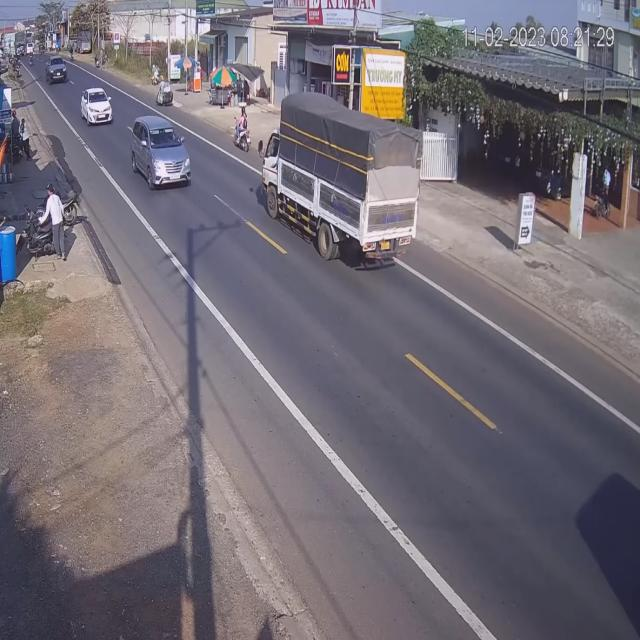car: (131, 118, 192, 194), (82, 86, 115, 127), (46, 55, 67, 85)
motorbike: (232, 111, 248, 152), (156, 80, 174, 110)
truck: (260, 95, 420, 266)
